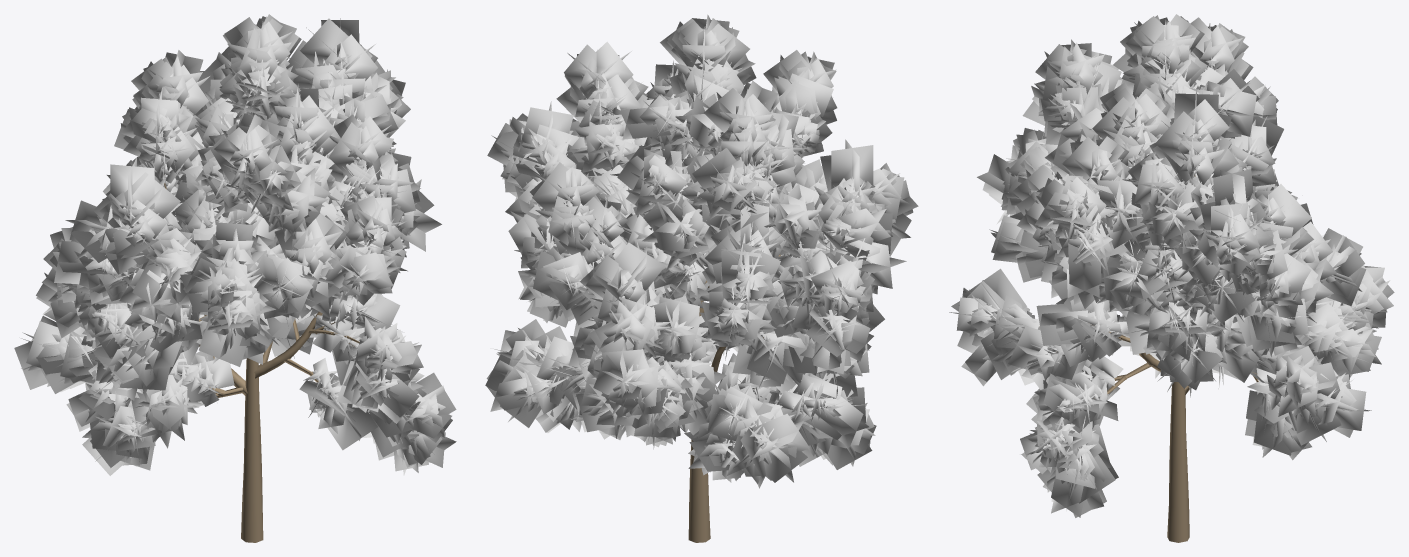
The model's file is tree-1.gltf.
3 renders of one model, left to right at view 1: azimuth 30°, elevation 25°; view 2: azimuth 150°, elevation 25°; view 3: azimuth 270°, elevation 25°, orthographic. The views are drawn at different scales.
Visible parts, largest first — view 1: leaves, bark; view 2: leaves, bark; view 3: leaves, bark.
Part boxes in pixels (x1,y1,x2,y2): leaves: [14, 14, 456, 475]; bark: [164, 183, 359, 542]; leaves: [485, 14, 918, 488]; bark: [602, 228, 780, 542]; leaves: [949, 14, 1394, 517]; bark: [1039, 135, 1258, 542].
Bounding box in the file's own units: 5.81 × 7.6 × 5.88.
